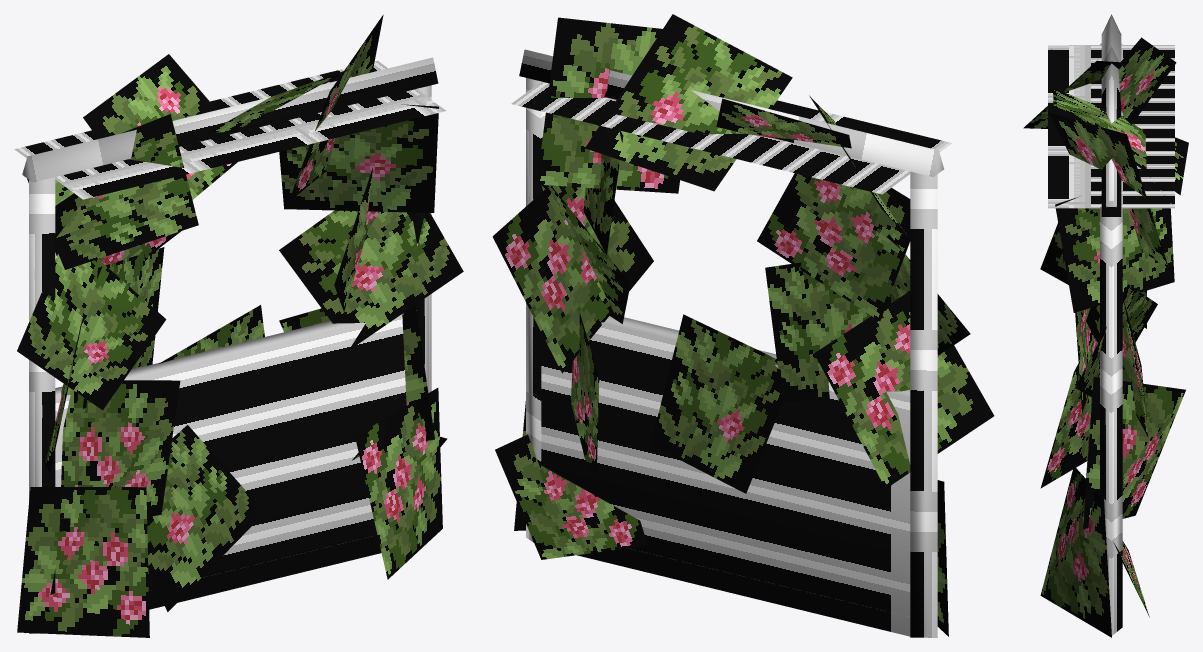
3 views of the same model, side by side, from view 1: azimuth 30°, elevation 25°; view 2: azimuth 150°, elevation 25°; view 3: azimuth 270°, elevation 25° (orthographic). The views are drawn at different scales.
Visible parts, largest first — view 1: 3411IMIG20_10; view 2: 3411IMIG20_10; view 3: 3411IMIG20_10.
Part boxes in pixels (x1=…): 3411IMIG20_10: x1=14, y1=14, x2=463, y2=637; 3411IMIG20_10: x1=492, y1=14, x2=994, y2=637; 3411IMIG20_10: x1=1023, y1=14, x2=1188, y2=637.
Bounding box in the file's own units: 2 × 2.24 × 0.6946.
3 materials, 3 textured.
